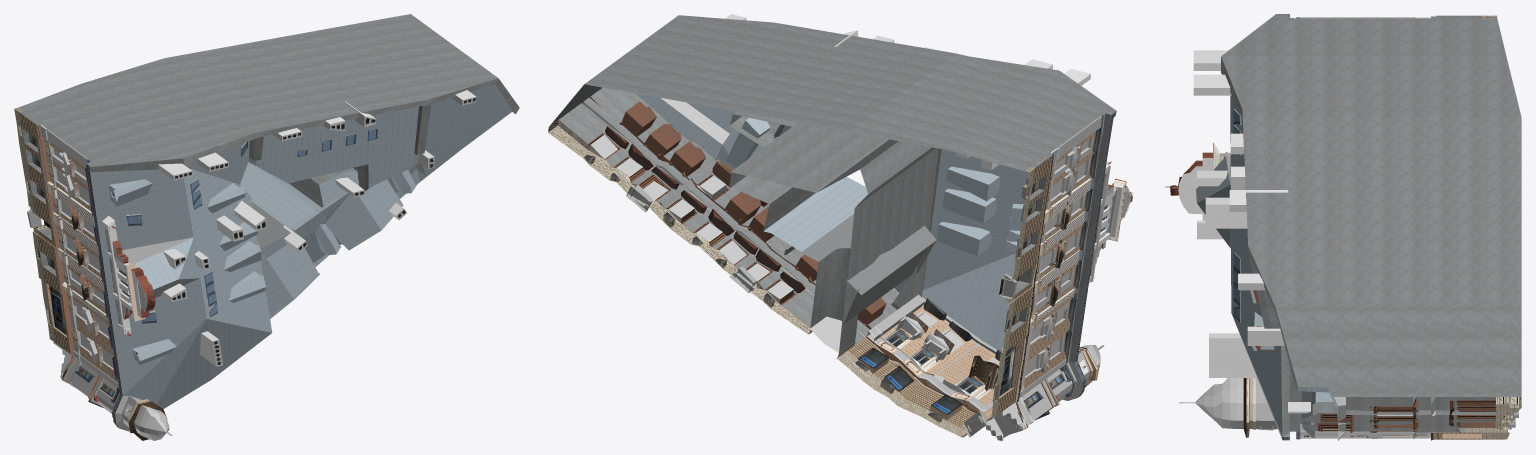
File: suur-Karja15_1-origo.obj
3 views of the same model, side by side, from view 1: azimuth 30°, elevation 25°; view 2: azimuth 150°, elevation 25°; view 3: azimuth 270°, elevation 25° (orthographic). The views are drawn at different scales.
Parts seen in each view (by area): view 1: polySurface14; view 2: polySurface14; view 3: polySurface14.
Part boxes in pixels (x1,y1,x2,y2): polySurface14: (14, 14, 519, 440); polySurface14: (548, 14, 1132, 440); polySurface14: (1165, 14, 1521, 440).
Size of the model in its own units: 43.69 by 26.5 by 21.89.
